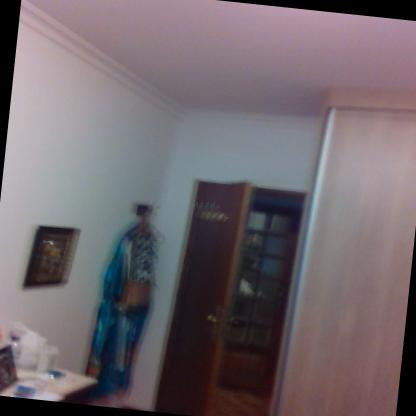semi: (162, 158, 321, 415)
